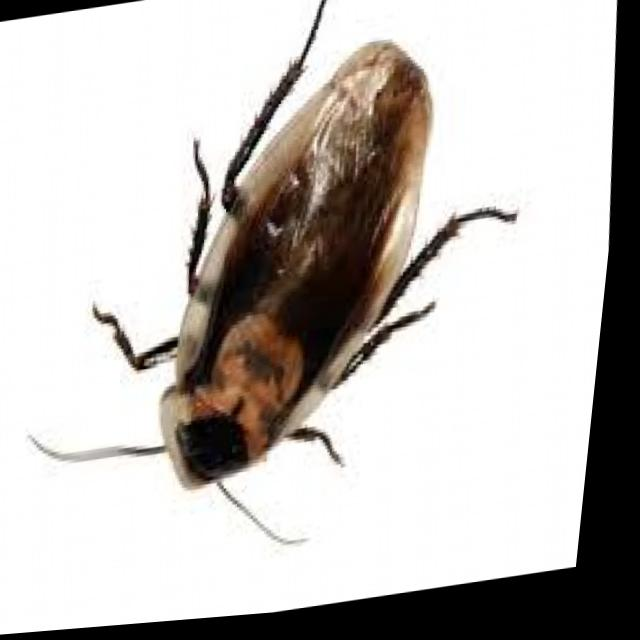Cockroach: (0, 0, 575, 605)
